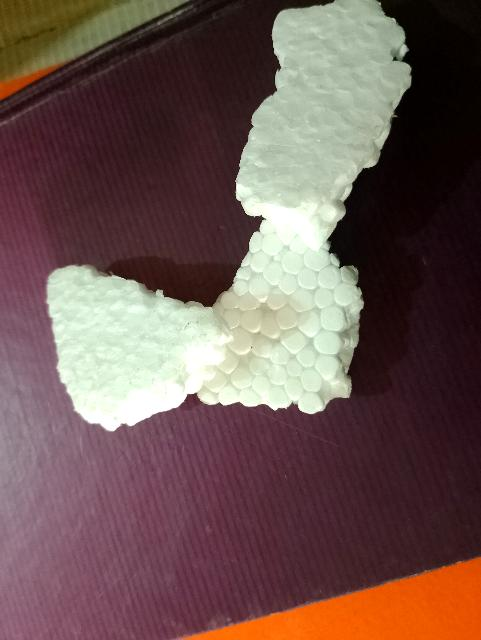cocksheet: (19, 200, 381, 439), (191, 0, 427, 254)
